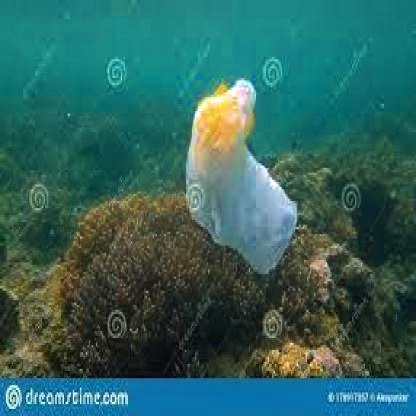pbag: (185, 78, 298, 274)
